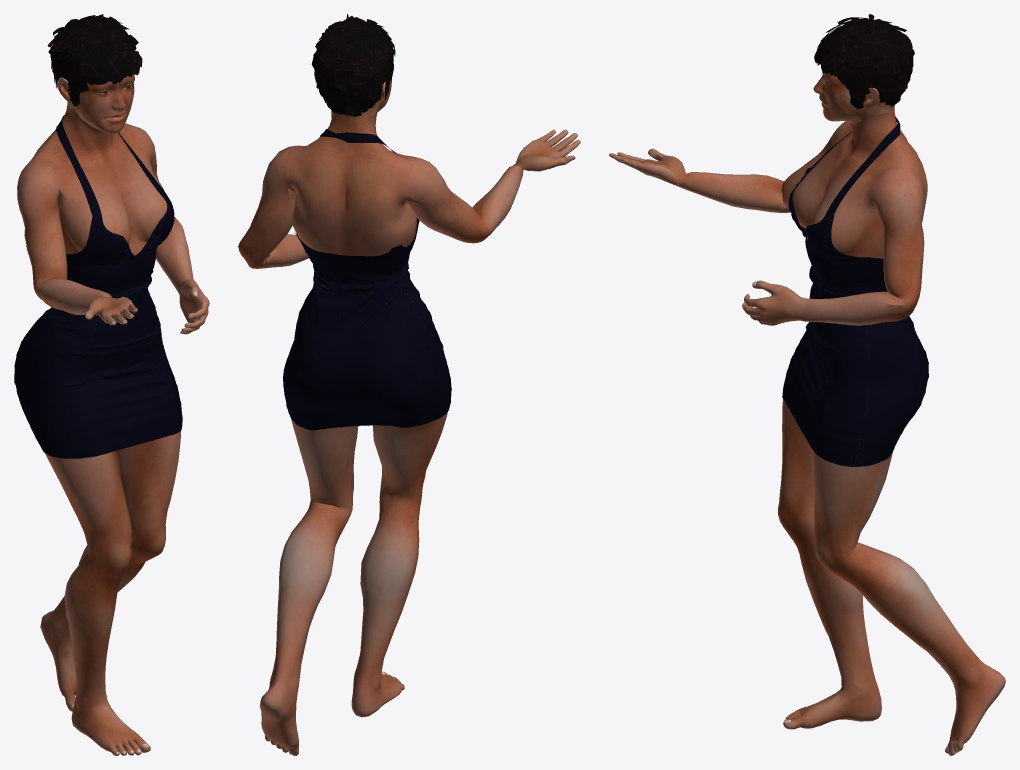
The model's file is women.glb.
The picture shows the model from 3 angles, left to right: view 1: azimuth 30°, elevation 25°; view 2: azimuth 150°, elevation 25°; view 3: azimuth 270°, elevation 25°; orthographic projection. The views are drawn at different scales.
Parts seen in each view (by area): view 1: Object_7, Object_12, Object_11; view 2: Object_7, Object_12, Object_11; view 3: Object_7, Object_12, Object_11.
Part boxes in pixels (x1=…): Object_7: x1=17, y1=74, x2=209, y2=755; Object_12: x1=14, y1=115, x2=182, y2=458; Object_11: x1=47, y1=14, x2=142, y2=106; Object_7: x1=238, y1=79, x2=580, y2=755; Object_12: x1=283, y1=129, x2=451, y2=430; Object_11: x1=311, y1=14, x2=395, y2=116; Object_7: x1=609, y1=72, x2=1005, y2=755; Object_12: x1=782, y1=115, x2=928, y2=466; Object_11: x1=814, y1=14, x2=914, y2=109.
Size of the model in its own units: 24.39 by 77.69 by 38.54.
Materials: 11 (10 with a texture image).
